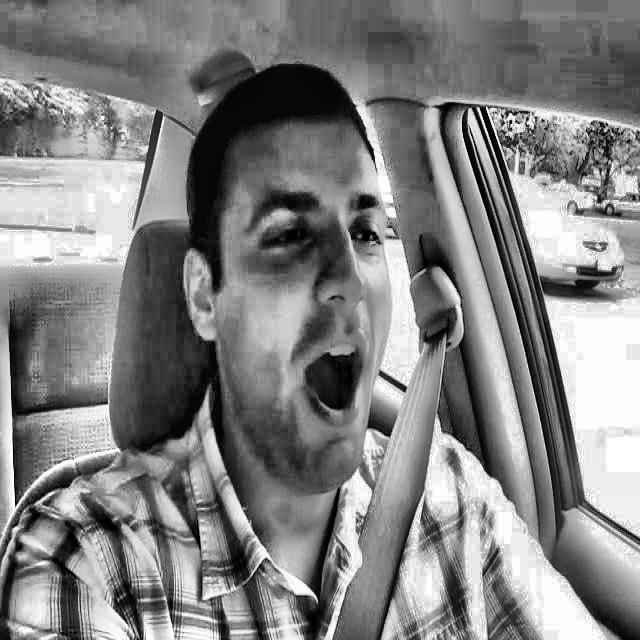open_eyes: (250, 215, 326, 267), (338, 208, 400, 265)
open_mouth: (285, 317, 388, 445)
